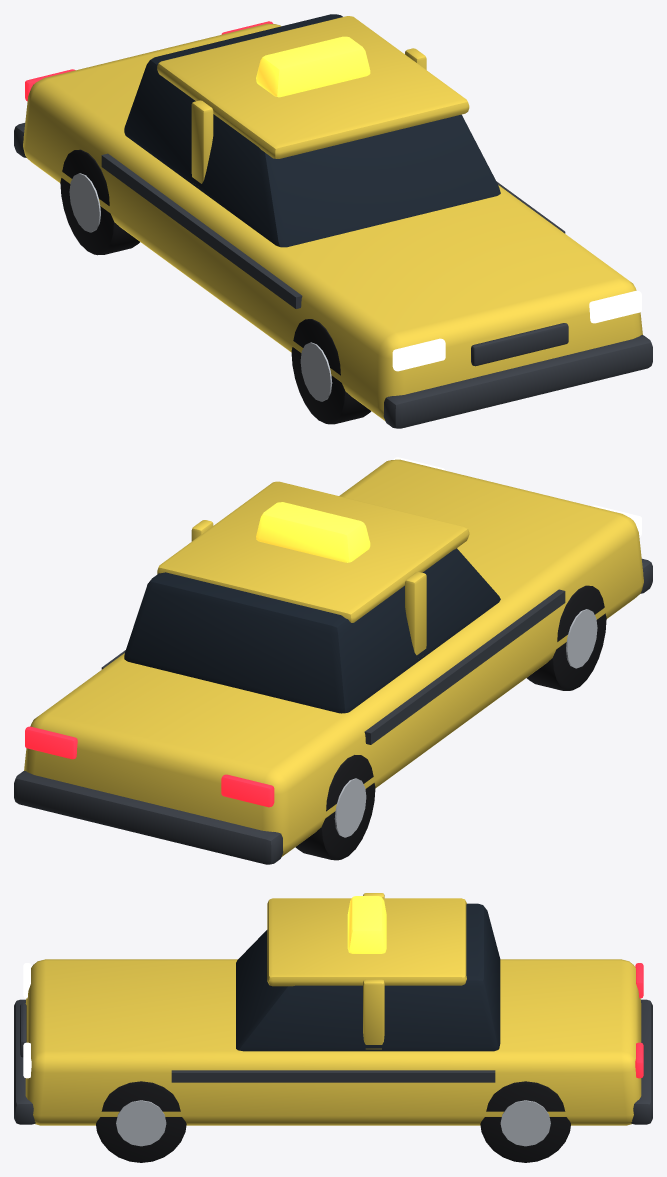
The model's file is trafficTaxi.5ca742f7.glb.
3 renders of one model, top to bottom at view 1: azimuth 30°, elevation 25°; view 2: azimuth 150°, elevation 25°; view 3: azimuth 270°, elevation 25°, orthographic. The views are drawn at different scales.
Visible parts, largest first — view 1: taxi; view 2: taxi; view 3: taxi.
Part boxes in pixels (bbox=[...]): taxi: bbox=[14, 14, 652, 428]; taxi: bbox=[14, 457, 652, 864]; taxi: bbox=[14, 893, 652, 1162].
Bounding box in the file's own units: 1.92 × 1.63 × 4.74.
